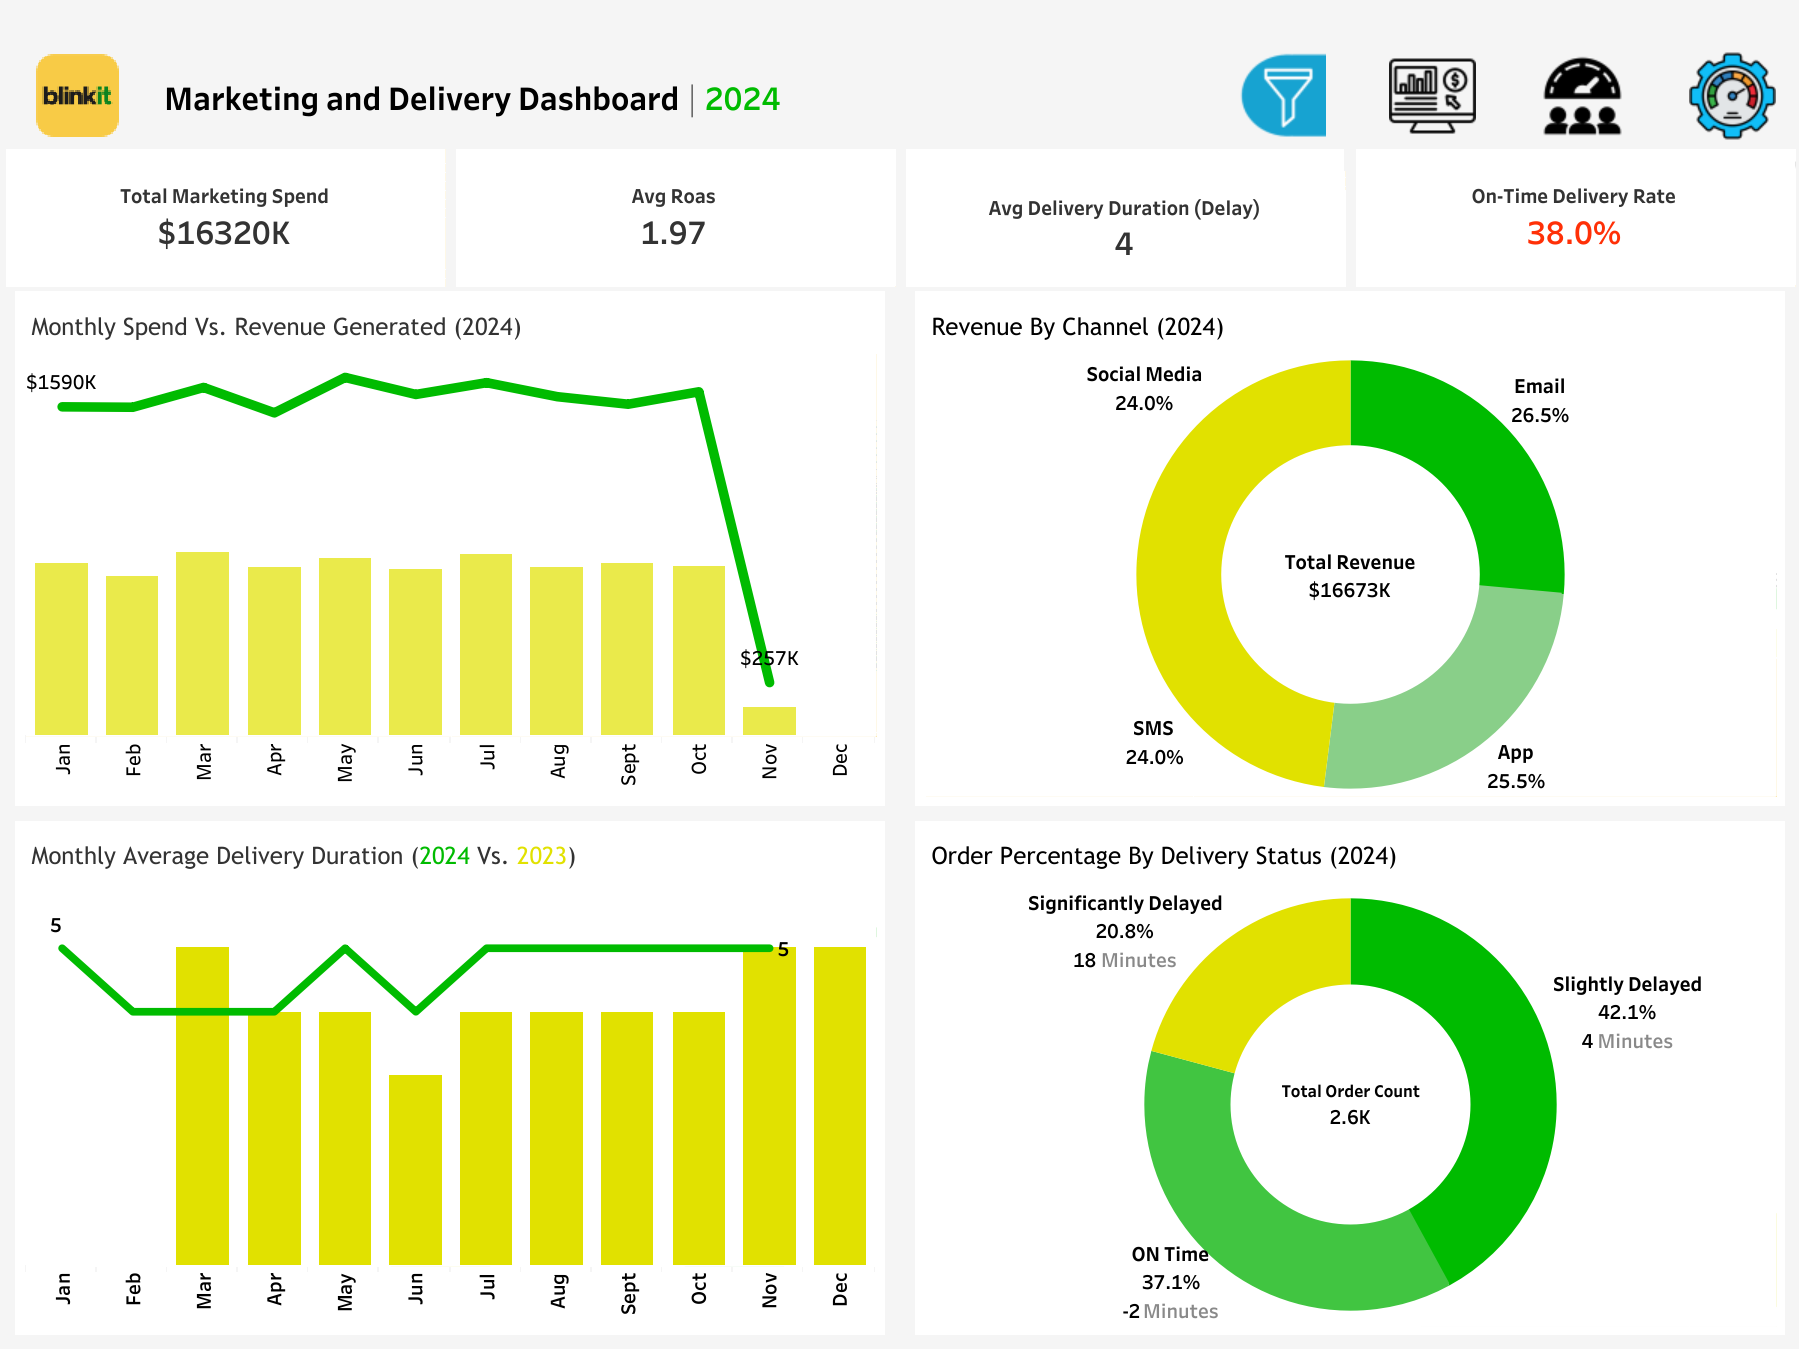

The page's visual inventory and layout, read from the dashboard file:
{"tool":"tableau","page":{"name":"Marketing and Delivery Performance Dashboard","canvas":[1200,900],"ordinal":1},"visuals":[{"type":"blank","box":[0,0,1200,32]},{"type":"dashboard-object","box":[805,31,100,66]},{"type":"dashboard-object","box":[905,31,100,66]},{"type":"dashboard-object","box":[1005,31,100,66]},{"type":"dashboard-object","box":[1105,31,100,66]},{"type":"image","param":"Image/blinkit-logo_brandlogos.net_yvy1m.png","box":[0,32,103,63]},{"type":"text","box":[103,32,711,63]},{"type":"blank","box":[985,45,199,69]},{"type":"worksheet","title":"Total Marketing Spending KPI","mark":"Text","box":[0,95,300,99]},{"type":"worksheet","title":"Avg Roas KPI","mark":"Text","box":[300,95,300,99]},{"type":"worksheet","title":"Avg. Delivery Time KPI","mark":"Automatic","box":[600,95,300,99]},{"type":"worksheet","title":"On Time Delivery Rate KPI","mark":"Text","box":[900,95,300,99]},{"type":"text","box":[985,114,199,79]},{"type":"parameter","param":"[Parameters].[Parameter 1]","box":[985,193,199,70]},{"type":"worksheet","title":"Monthly Spend Vs. Revenue Generated","mark":"Automatic","rows":["Calculation_891431263119233034","Calculation_891431263119421451"],"cols":["month"],"box":[0,194,600,353]},{"type":"worksheet","title":"Revenue By Channel","mark":"Pie","rows":["Calculation_1340102375653294087","Calculation_1340102375653294087"],"box":[600,194,600,353]},{"type":"parameter","param":"[Parameters].[Parameter 3]","box":[985,263,199,88]},{"type":"parameter","param":"[Parameters].[Parameter 2]","box":[985,351,199,84]},{"type":"filter","title":"Revenue By Channel","param":"[federated.0k5y0ui0zzi31d16wq9031yt2fcn].[none:channel:nk]","box":[985,435,199,139]},{"type":"worksheet","title":"Monthly Avg. Delivery Time","mark":"Automatic","rows":["CY Avg. Delivery Time (copy)_891431263109128198","Calculation_891431263108931589"],"cols":["year"],"box":[0,547,600,353]},{"type":"worksheet","title":"Order Percentage By Delivery Status","mark":"Pie","rows":["Calculation_891431263105355780","Calculation_891431263105355780"],"box":[600,547,600,353]},{"type":"filter","title":"Order Percentage By Delivery Status","param":"[federated.0uueivl1hx0toj1b9r1j40im2890].[none:delivery_status:nk]","box":[985,574,199,138]}]}

Visuals, with their boxes in screenshot pixels (x1, y1, x2, y2), scaled from the page's 1200x900 canvas onto the 1799x1349 screenshot:
blank: bbox=[0, 0, 1798, 48]
dashboard-object: bbox=[1207, 46, 1357, 145]
dashboard-object: bbox=[1357, 46, 1507, 145]
dashboard-object: bbox=[1507, 46, 1657, 145]
dashboard-object: bbox=[1657, 46, 1798, 145]
image: bbox=[0, 48, 154, 142]
text: bbox=[154, 48, 1220, 142]
blank: bbox=[1477, 67, 1775, 171]
"Total Marketing Spending KPI" worksheet (Text marks): bbox=[0, 142, 450, 291]
"Avg Roas KPI" worksheet (Text marks): bbox=[450, 142, 900, 291]
"Avg. Delivery Time KPI" worksheet: bbox=[900, 142, 1349, 291]
"On Time Delivery Rate KPI" worksheet (Text marks): bbox=[1349, 142, 1798, 291]
text: bbox=[1477, 171, 1775, 289]
parameter: bbox=[1477, 289, 1775, 394]
"Monthly Spend Vs. Revenue Generated" worksheet: bbox=[0, 291, 900, 820]
"Revenue By Channel" worksheet (Pie marks): bbox=[900, 291, 1798, 820]
parameter: bbox=[1477, 394, 1775, 526]
parameter: bbox=[1477, 526, 1775, 652]
"Revenue By Channel" filter: bbox=[1477, 652, 1775, 860]
"Monthly Avg. Delivery Time" worksheet: bbox=[0, 820, 900, 1348]
"Order Percentage By Delivery Status" worksheet (Pie marks): bbox=[900, 820, 1798, 1348]
"Order Percentage By Delivery Status" filter: bbox=[1477, 860, 1775, 1067]
